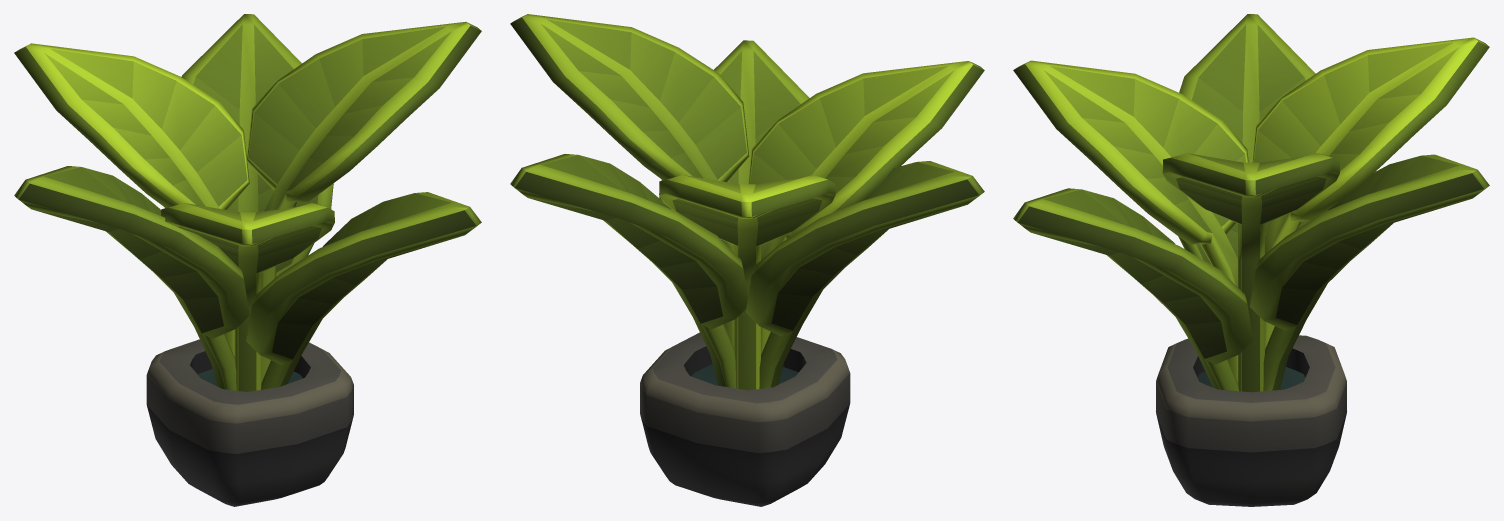
Rendered from plant3_LOD_setup.fbx.
3 renders of one model, left to right at view 1: azimuth 30°, elevation 25°; view 2: azimuth 150°, elevation 25°; view 3: azimuth 270°, elevation 25°, orthographic.
Visible parts, largest first — view 1: plant3_LOD0; view 2: plant3_LOD0; view 3: plant3_LOD0.
Boxes of the visible parts, x1,y1,x2,y2 form: plant3_LOD0: (14, 14, 481, 506); plant3_LOD0: (510, 14, 984, 506); plant3_LOD0: (1013, 14, 1489, 506).
Size of what is drawn, in the model's own units: 119 by 100 by 104.
